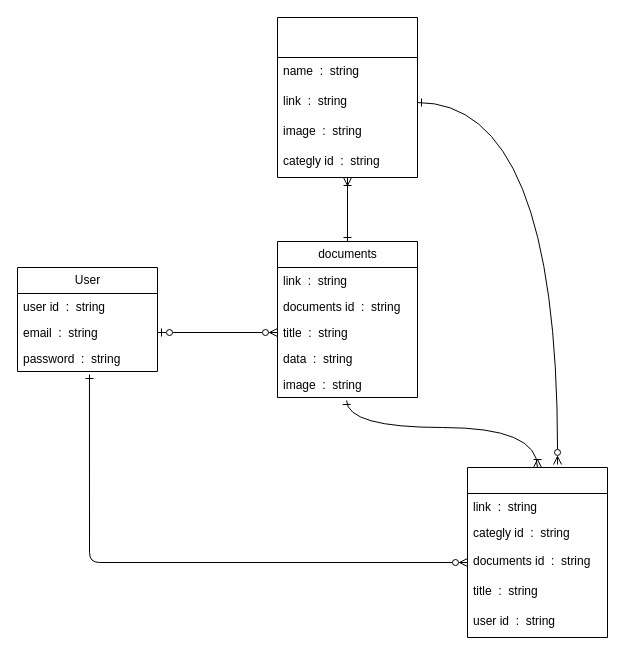
Image size: 625x658. Some labels were removed from this diagram. Each missing label, with the box of its shape:
BookMark: (466, 466, 608, 638)
Category: (276, 16, 418, 178)
